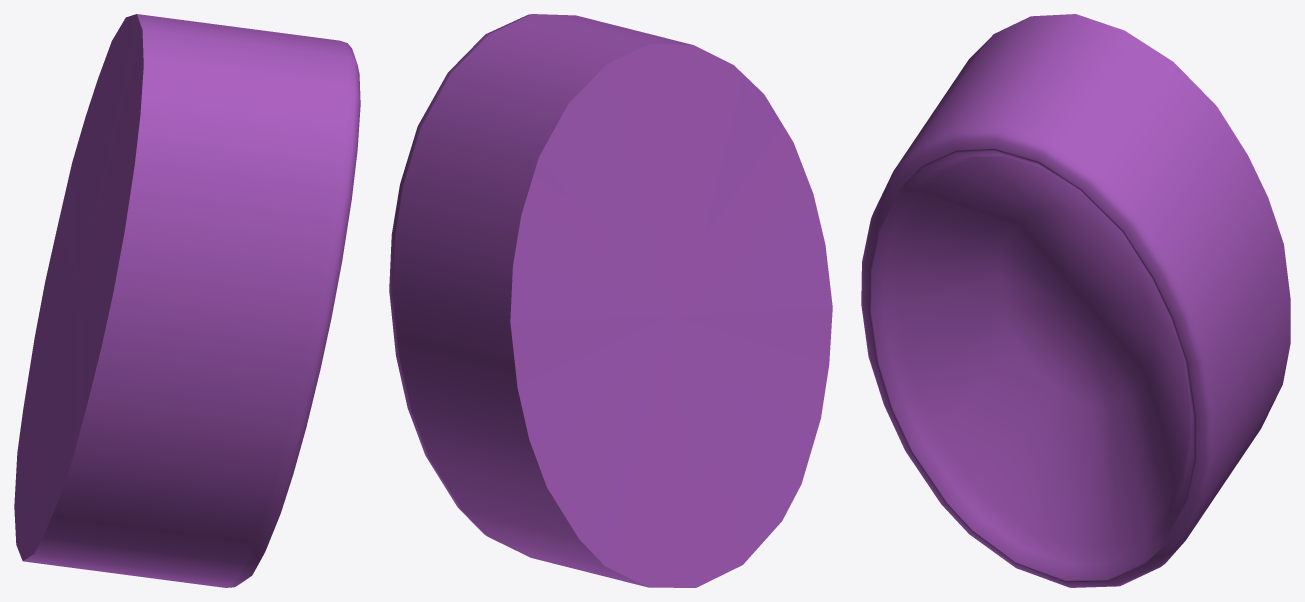
The model's file is TR4_8shapes_Oval_Classic_Metal.001 3.glb.
3 renders of one model, left to right at view 1: azimuth 30°, elevation 25°; view 2: azimuth 150°, elevation 25°; view 3: azimuth 270°, elevation 25°, orthographic. The views are drawn at different scales.
Parts seen in each view (by area): view 1: TR4_8shapes_Oval_Classic_Metal.001; view 2: TR4_8shapes_Oval_Classic_Metal.001; view 3: TR4_8shapes_Oval_Classic_Metal.001.
Boxes of the visible parts, box(x1,y1,x2,y2) form: TR4_8shapes_Oval_Classic_Metal.001: box(14, 14, 360, 587); TR4_8shapes_Oval_Classic_Metal.001: box(389, 14, 832, 587); TR4_8shapes_Oval_Classic_Metal.001: box(861, 14, 1290, 587).
Size of the model in its own units: 0.4223 by 0.6498 by 0.4725.
